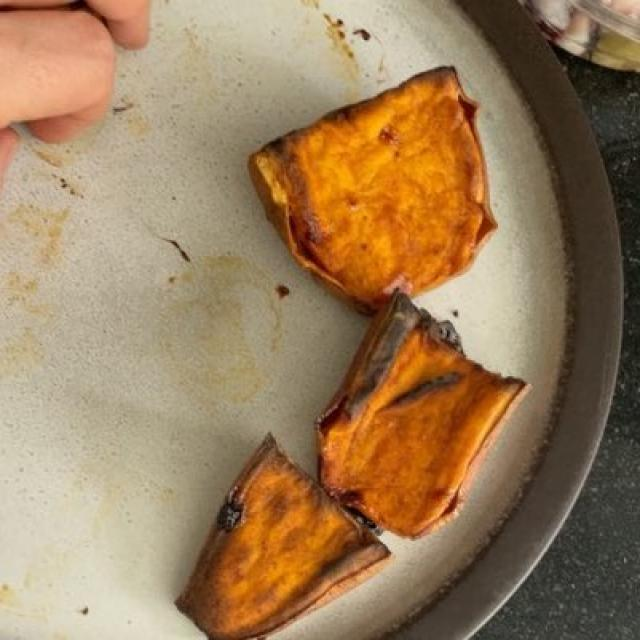sweet-potato: (175, 50, 551, 631)
